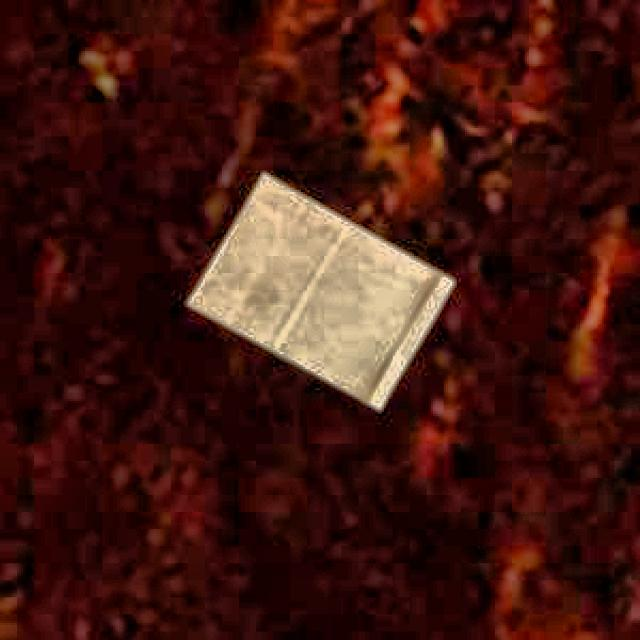Paper-bag: (172, 168, 454, 426)
